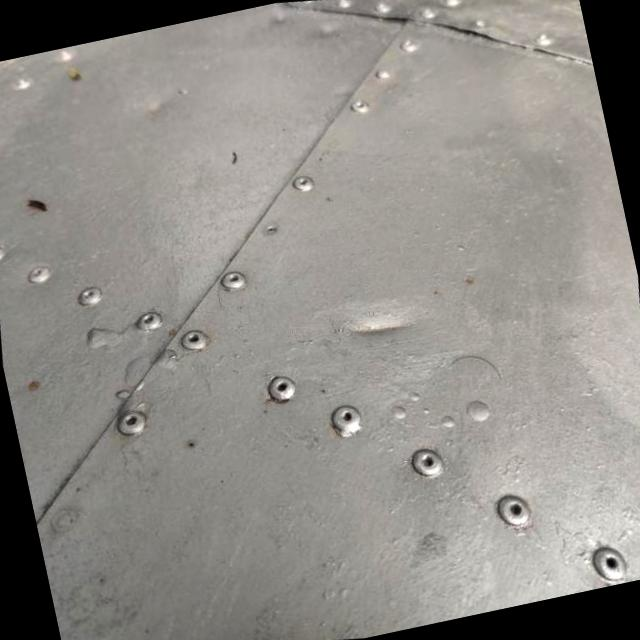dent: (310, 298, 430, 362)
